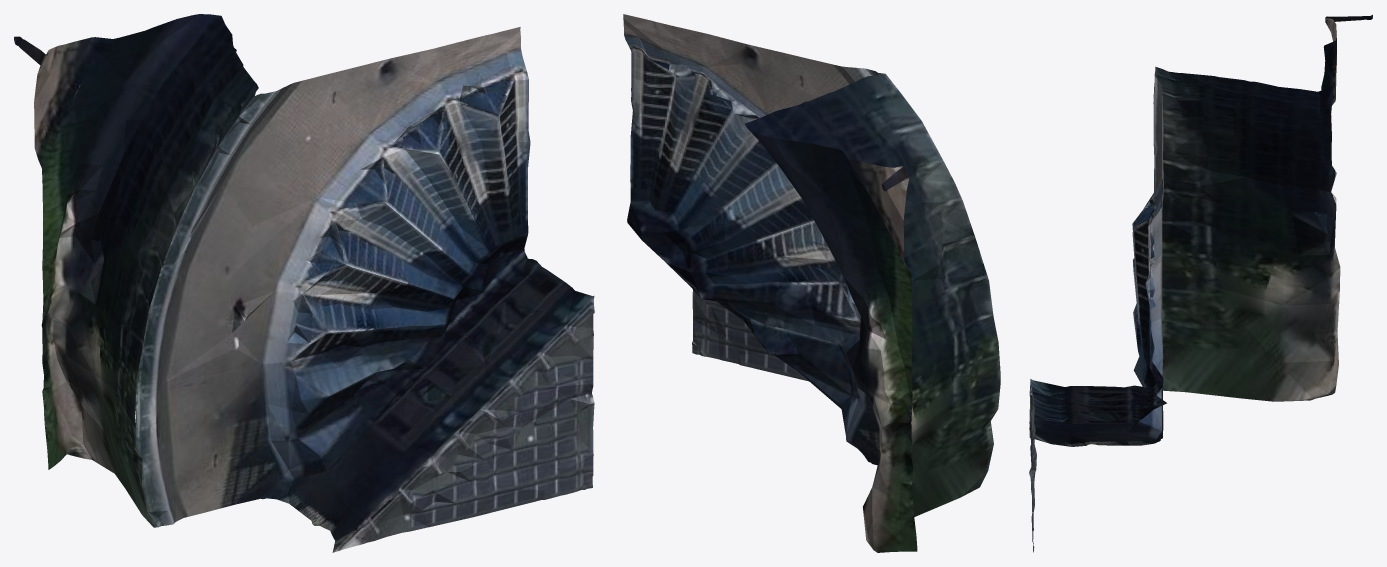
File: Tile_+032_+021_L19_000212.obj
3 views of the same model, side by side, from view 1: azimuth 30°, elevation 25°; view 2: azimuth 150°, elevation 25°; view 3: azimuth 270°, elevation 25° (orthographic). The views are drawn at different scales.
Size of the model in its own units: 31.75 by 31.75 by 26.91.
Materials: 1 (1 with a texture image).
